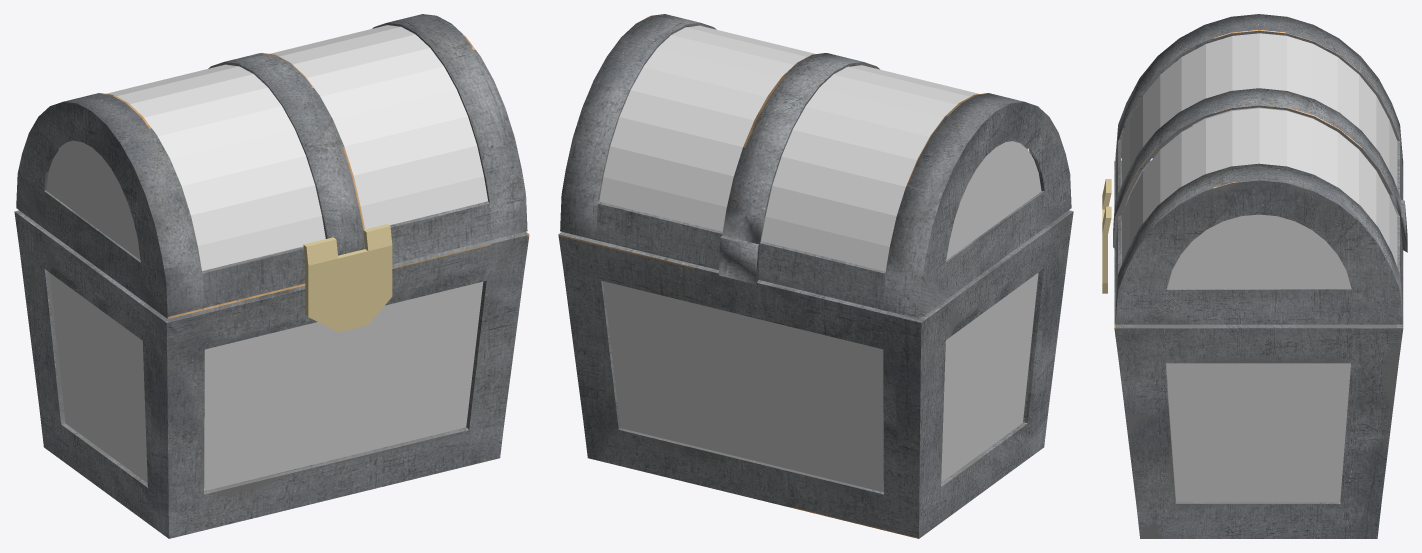
The model's file is chest.fbx.
3 renders of one model, left to right at view 1: azimuth 30°, elevation 25°; view 2: azimuth 150°, elevation 25°; view 3: azimuth 270°, elevation 25°, orthographic. The views are drawn at different scales.
Parts seen in each view (by area): view 1: Cilindro.004, Cube; view 2: Cilindro.004; view 3: Cilindro.004, Cube.
Part boxes in pixels (x1,y1,x2,y2): Cilindro.004: [14, 14, 529, 538]; Cube: [303, 224, 392, 332]; Cilindro.004: [558, 14, 1073, 538]; Cilindro.004: [1113, 14, 1407, 538]; Cube: [1102, 179, 1111, 293].
Bounding box in the file's own units: 288 × 292 × 221.
